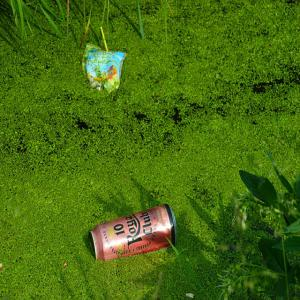Can: (89, 204, 180, 263)
Trash: (82, 44, 129, 94)
